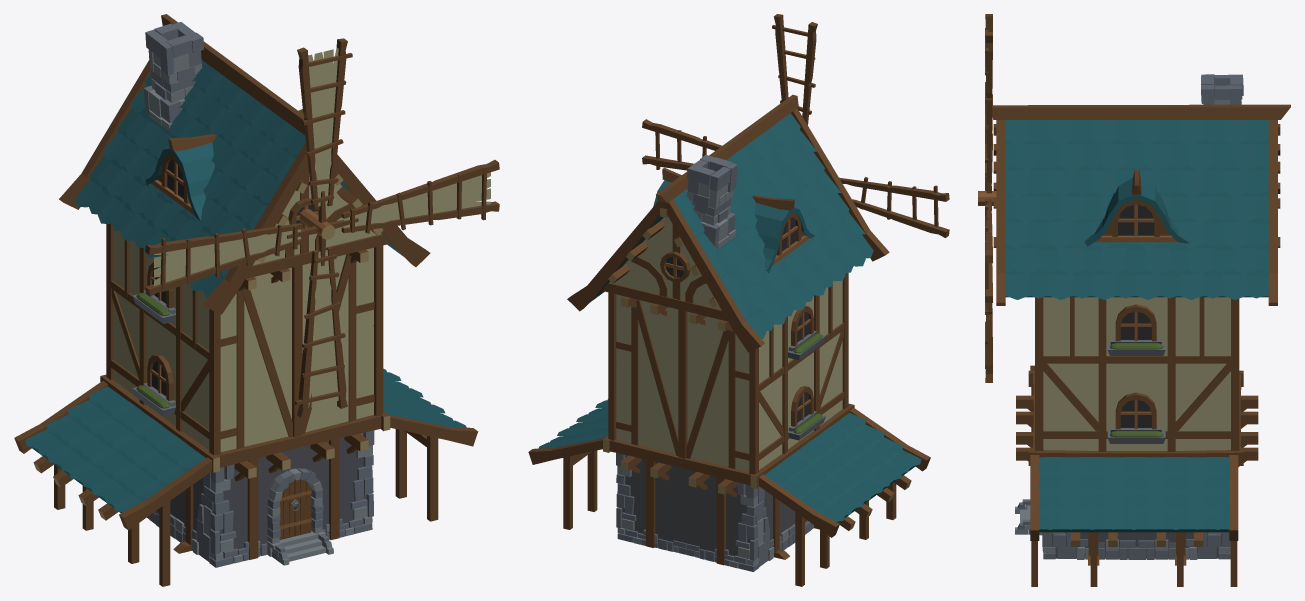
File: Mill.glb
3 views of the same model, side by side, from view 1: azimuth 30°, elevation 25°; view 2: azimuth 150°, elevation 25°; view 3: azimuth 270°, elevation 25° (orthographic). The views are drawn at different scales.
Parts seen in each view (by area): view 1: Mill_Cube.128, Mill_Blades_Cube.007; view 2: Mill_Cube.128, Mill_Blades_Cube.007; view 3: Mill_Cube.128, Mill_Blades_Cube.007.
Part boxes in pixels (x1,y1,x2,y2): Mill_Cube.128: [14, 14, 478, 586]; Mill_Blades_Cube.007: [145, 38, 499, 417]; Mill_Cube.128: [528, 94, 930, 586]; Mill_Blades_Cube.007: [642, 14, 949, 237]; Mill_Cube.128: [992, 74, 1290, 586]; Mill_Blades_Cube.007: [978, 14, 996, 382].
Size of the model in its own units: 3.4 by 4.8 by 2.73.
